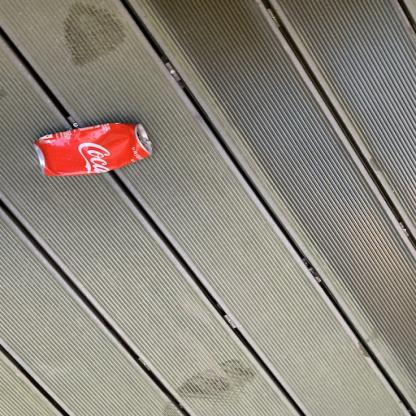trash: (35, 118, 158, 182)
